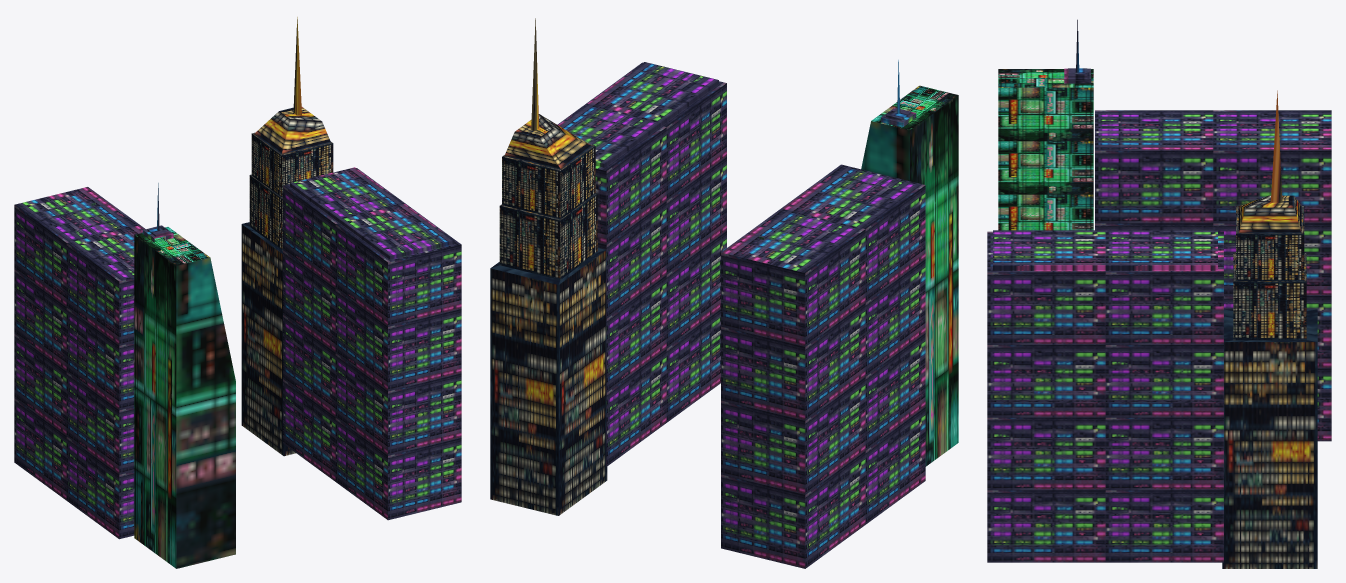
File: TokyoCity02.fbx
The picture shows the model from 3 angles, left to right: view 1: azimuth 30°, elevation 25°; view 2: azimuth 150°, elevation 25°; view 3: azimuth 270°, elevation 25°; orthographic projection. The views are drawn at different scales.
Visible parts, largest first — view 1: Cube; view 2: Cube; view 3: Cube.
Boxes of the visible parts, x1,y1,x2,y2 form: Cube: [14, 17, 461, 568]; Cube: [490, 18, 958, 568]; Cube: [987, 19, 1331, 568].
Size of the model in its own units: 46046 by 62004 by 41314.
